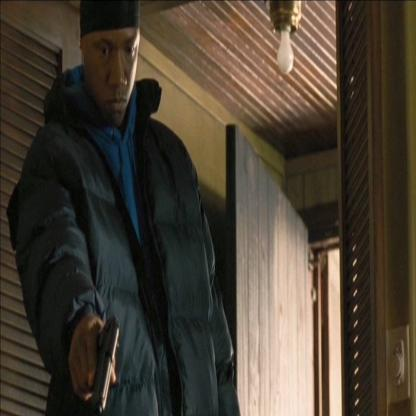gun: (87, 299, 123, 416)
